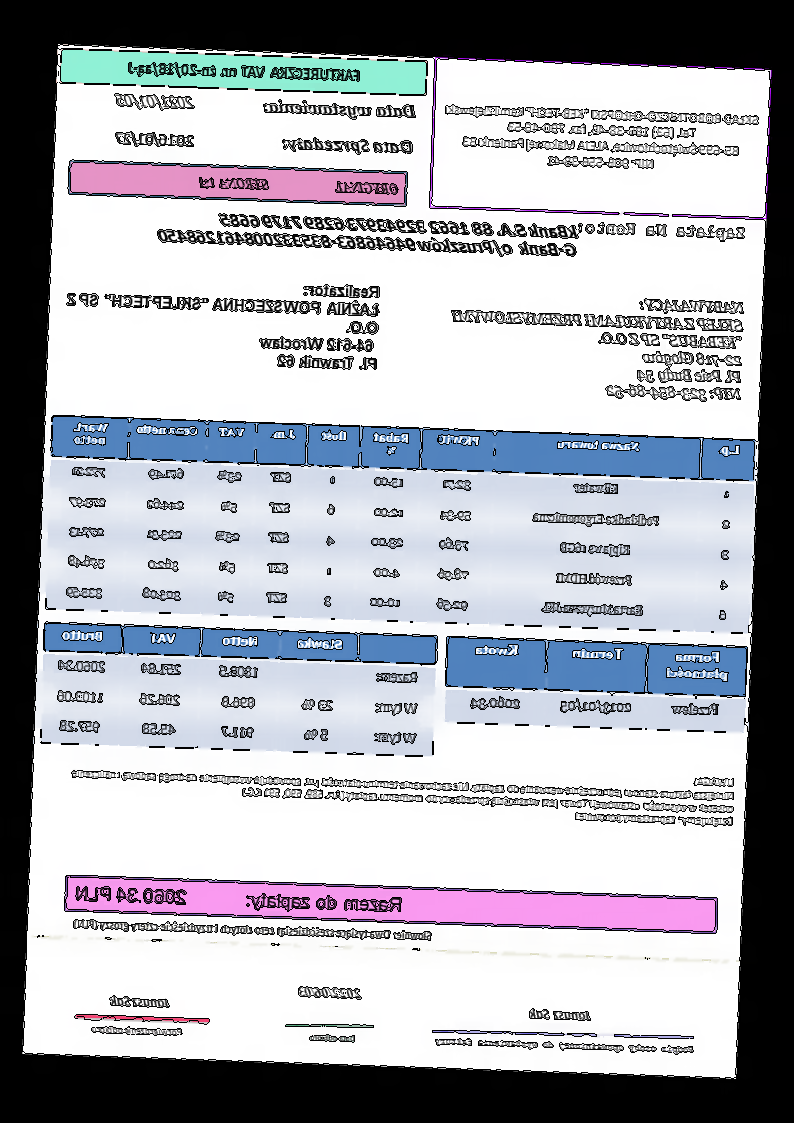Table: (44, 412, 758, 636), (38, 621, 439, 760), (444, 634, 749, 734)
TextBox: (68, 752, 736, 829), (445, 288, 747, 407), (60, 274, 383, 377), (440, 99, 761, 180), (154, 210, 579, 259), (74, 883, 404, 916), (70, 916, 435, 944), (126, 56, 364, 86), (433, 1036, 698, 1057), (195, 174, 400, 199), (263, 96, 418, 126), (576, 219, 747, 243), (280, 134, 417, 159), (113, 90, 196, 115), (113, 128, 197, 150), (527, 1004, 595, 1025), (89, 1024, 185, 1038), (295, 984, 364, 1001), (108, 994, 173, 1010), (306, 1032, 359, 1045)
